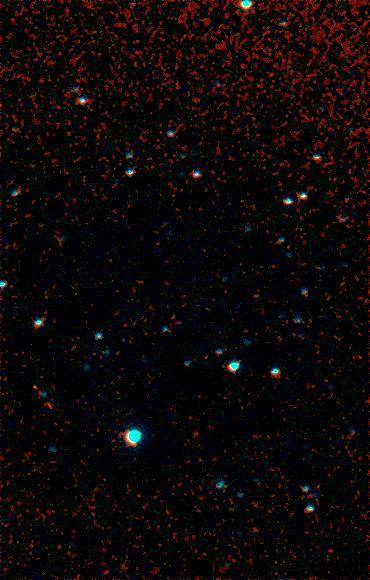star: (192, 344, 222, 374)
